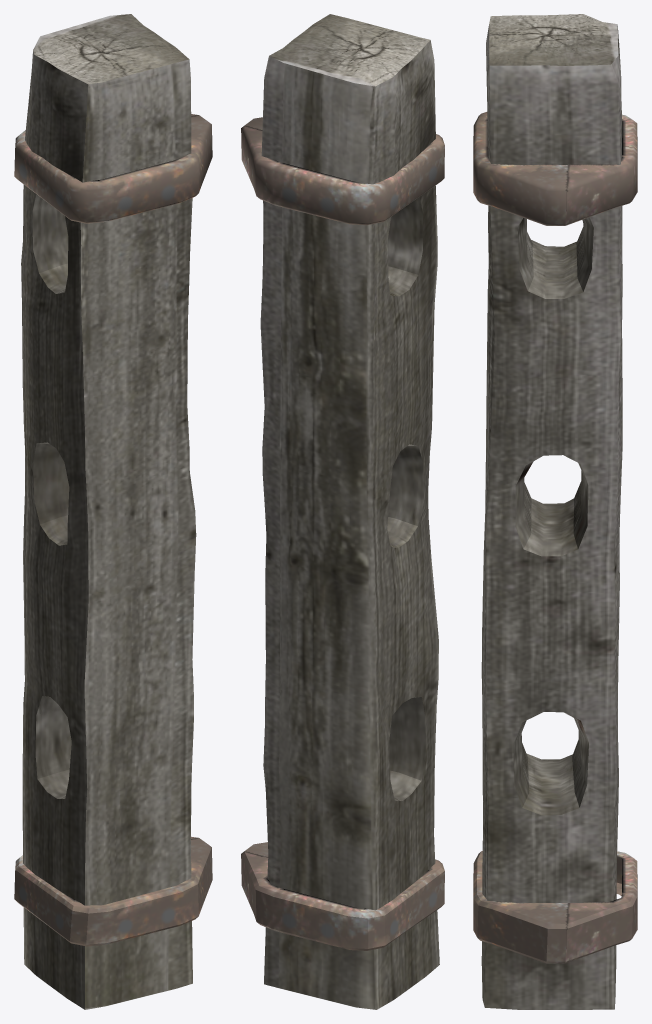
The model's file is fence_poleGate.FBX.
The picture shows the model from 3 angles, left to right: view 1: azimuth 30°, elevation 25°; view 2: azimuth 150°, elevation 25°; view 3: azimuth 270°, elevation 25°; orthographic projection. The views are drawn at different scales.
Visible parts, largest first — view 1: fence_poleGate; view 2: fence_poleGate; view 3: fence_poleGate.
Part boxes in pixels (left/top/right/bottom): fence_poleGate: left=14, top=14, right=212, bottom=1009; fence_poleGate: left=241, top=14, right=444, bottom=1009; fence_poleGate: left=473, top=14, right=637, bottom=1009.
Size of the model in its own units: 19.75 by 16.44 by 104.
